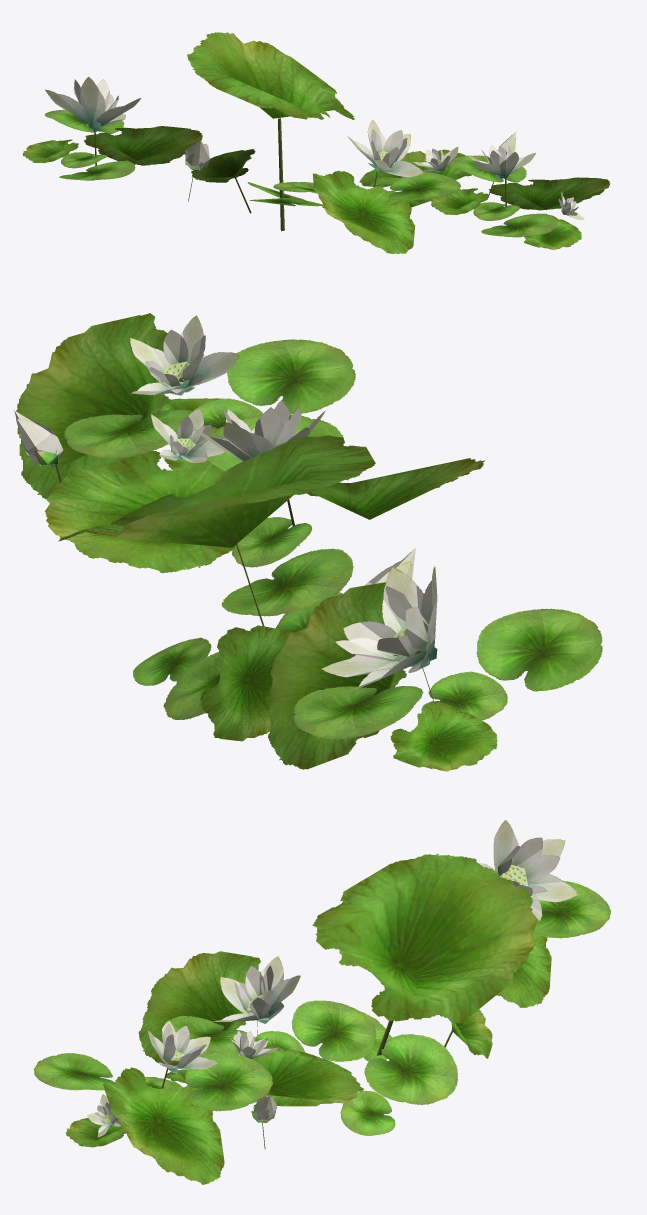
Rendered from yzc_hehua01.FBX.
The picture shows the model from 3 angles, top to bottom: view 1: azimuth 30°, elevation 25°; view 2: azimuth 150°, elevation 25°; view 3: azimuth 270°, elevation 25°; orthographic projection. The views are drawn at different scales.
Visible parts, largest first — view 1: yzc_hehua01; view 2: yzc_hehua01; view 3: yzc_hehua01.
Part boxes in pixels (x1,y1,x2,y2): yzc_hehua01: [22, 32, 610, 254]; yzc_hehua01: [14, 313, 602, 771]; yzc_hehua01: [33, 820, 610, 1184].
Size of the model in its own units: 202 by 71.63 by 193.
